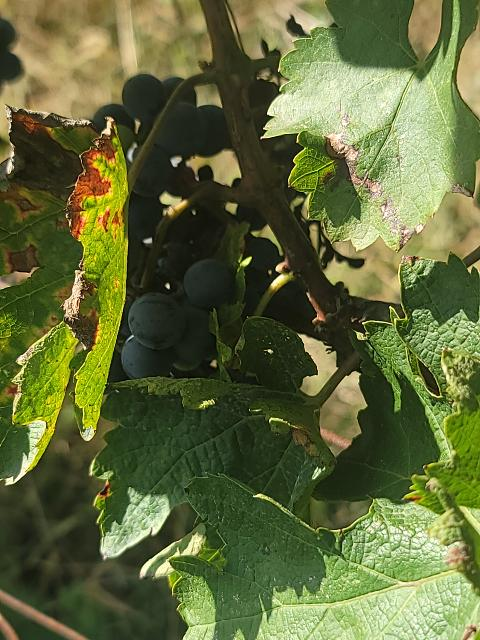grapes: (122, 206, 280, 379), (129, 90, 229, 245), (92, 74, 182, 161)
